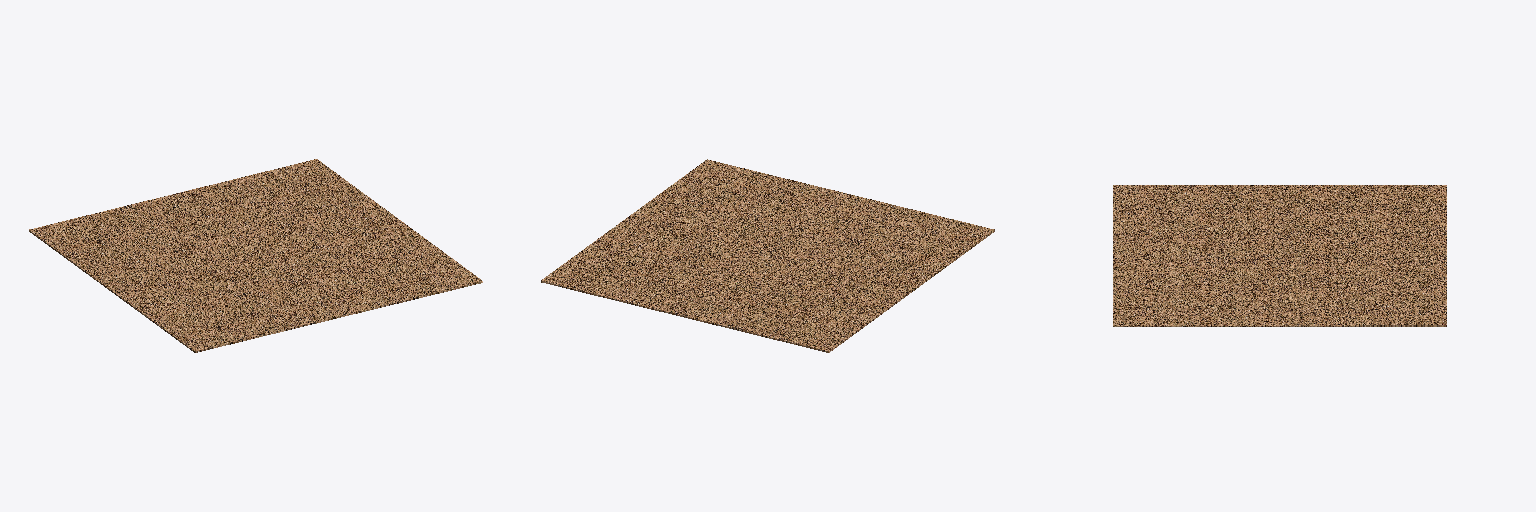
3 renders of one model, left to right at view 1: azimuth 30°, elevation 25°; view 2: azimuth 150°, elevation 25°; view 3: azimuth 270°, elevation 25°, orthographic.
Visible parts, largest first — view 1: Plane; view 2: Plane; view 3: Plane.
Boxes of the visible parts, x1,y1,x2,y2 form: Plane: [29, 159, 482, 352]; Plane: [541, 159, 994, 352]; Plane: [1113, 185, 1446, 326].
Size of the model in its own units: 151 by 1.01 by 151.
1 materials, 1 textured.